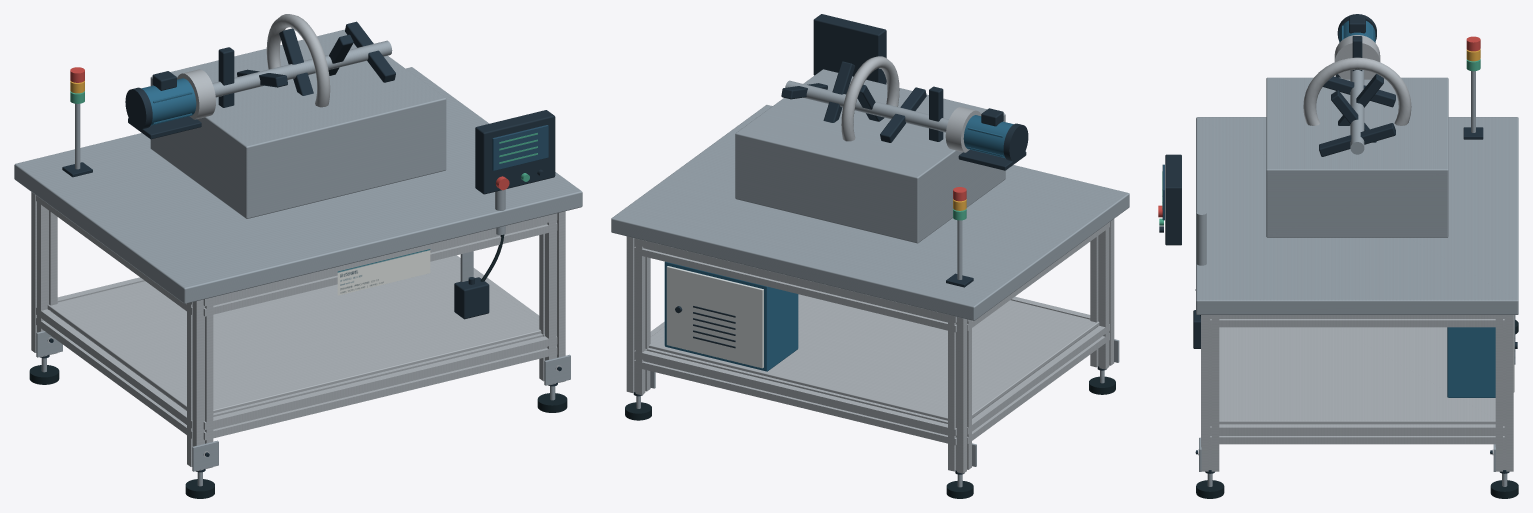
Rendered from bead-mill-cell.glb.
The picture shows the model from 3 angles, left to right: view 1: azimuth 30°, elevation 25°; view 2: azimuth 150°, elevation 25°; view 3: azimuth 270°, elevation 25°; orthographic projection. The views are drawn at different scales.
Parts seen in each view (by area): view 1: ClosedMachineBed_40, LowerShelf_41, MixerTrough_71, SlottedExtrusion_34, SlottedExtrusion_35, SlottedExtrusion_11, SlottedExtrusion_36, SlottedExtrusion_27, ConsoleBack_52, SlottedExtrusion_3, OriginalNameplate_65, Stator_90 (+13 smaller); view 2: ClosedMachineBed_40, MixerTrough_71, LowerShelf_41, BackDoor_43, SlottedExtrusion_32, SlottedExtrusion_33, SlottedExtrusion_3, ConsoleBack_52, SlottedExtrusion_19, Cabinet_42, SlottedExtrusion_36, SlottedExtrusion_11 (+10 smaller); view 3: ClosedMachineBed_40, MixerTrough_71, LowerShelf_41, SlottedExtrusion_38, SlottedExtrusion_39, Cabinet_42, SlottedExtrusion_27, SlottedExtrusion_19, Stator_90, ConsoleBack_52, RotorShaft_72, MixingBlade_77 (+7 smaller).
Boxes of the visible parts, left/top/right/bottom form: ClosedMachineBed_40: left=14, top=67, right=582, bottom=303; LowerShelf_41: left=47, top=256, right=541, bottom=413; MixerTrough_71: left=150, top=29, right=446, bottom=218; SlottedExtrusion_34: left=203, top=333, right=557, bottom=440; SlottedExtrusion_35: left=203, top=213, right=557, bottom=316; SlottedExtrusion_11: left=187, top=297, right=213, bottom=471; SlottedExtrusion_36: left=36, top=307, right=192, bottom=438; SlottedExtrusion_27: left=539, top=211, right=565, bottom=385; ConsoleBack_52: left=475, top=110, right=555, bottom=194; SlottedExtrusion_3: left=31, top=192, right=57, bottom=357; OriginalNameplate_65: left=337, top=249, right=430, bottom=295; Stator_90: left=266, top=14, right=330, bottom=107; ClosedMachineBed_40: left=611, top=105, right=1129, bottom=320; MixerTrough_71: left=735, top=69, right=1005, bottom=243; LowerShelf_41: left=649, top=294, right=1099, bottom=420; BackDoor_43: left=666, top=266, right=763, bottom=368; SlottedExtrusion_32: left=634, top=348, right=956, bottom=445; SlottedExtrusion_33: left=634, top=238, right=956, bottom=332; SlottedExtrusion_3: left=948, top=315, right=971, bottom=473; ConsoleBack_52: left=813, top=14, right=886, bottom=84; SlottedExtrusion_19: left=626, top=236, right=650, bottom=395; Cabinet_42: left=664, top=261, right=798, bottom=371; SlottedExtrusion_36: left=967, top=324, right=1109, bottom=443; SlottedExtrusion_11: left=1090, top=219, right=1114, bottom=369; ClosedMachineBed_40: left=1196, top=117, right=1518, bottom=314; MixerTrough_71: left=1266, top=77, right=1448, bottom=237; LowerShelf_41: left=1219, top=327, right=1495, bottom=424; SlottedExtrusion_38: left=1210, top=424, right=1504, bottom=444; SlottedExtrusion_39: left=1210, top=315, right=1504, bottom=327; Cabinet_42: left=1447, top=327, right=1495, bottom=397; SlottedExtrusion_27: left=1201, top=315, right=1219, bottom=471; SlottedExtrusion_19: left=1495, top=315, right=1513, bottom=471; Stator_90: left=1303, top=57, right=1411, bottom=125; ConsoleBack_52: left=1165, top=154, right=1181, bottom=245; RotorShaft_72: left=1350, top=70, right=1364, bottom=154; MixingBlade_77: left=1319, top=123, right=1395, bottom=156.
Size of the model in its own units: 1.55 by 1.39 by 1.29.
11 materials, 3 textured.
